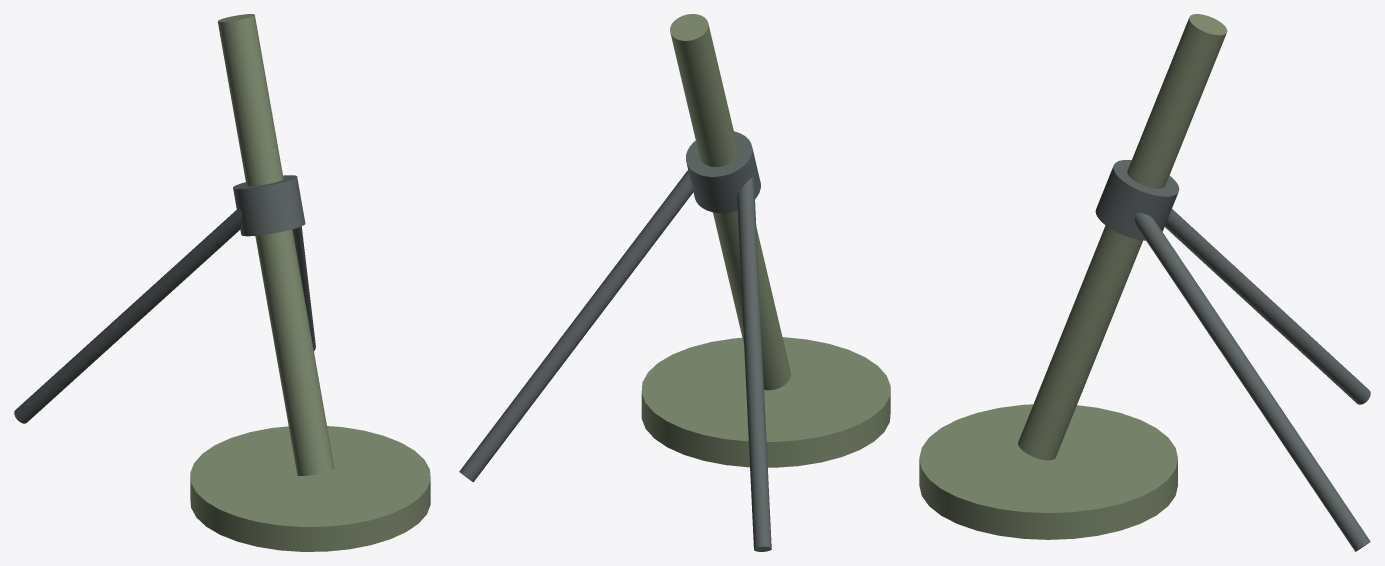
3 renders of one model, left to right at view 1: azimuth 30°, elevation 25°; view 2: azimuth 150°, elevation 25°; view 3: azimuth 270°, elevation 25°, orthographic. The views are drawn at different scales.
Visible parts, largest first — view 1: Hull_MVP olive paint, Hull_MVP exposed metal; view 2: Hull_MVP olive paint, Hull_MVP exposed metal; view 3: Hull_MVP olive paint, Hull_MVP exposed metal.
Part boxes in pixels (x1,y1,x2,y2): Hull_MVP olive paint: (190, 14, 430, 551); Hull_MVP exposed metal: (14, 175, 315, 423); Hull_MVP olive paint: (641, 14, 890, 467); Hull_MVP exposed metal: (459, 131, 771, 551); Hull_MVP olive paint: (919, 14, 1227, 539); Hull_MVP exposed metal: (1095, 160, 1370, 551).
Bounding box in the file's own units: 1.01 × 1.39 × 1.22.
